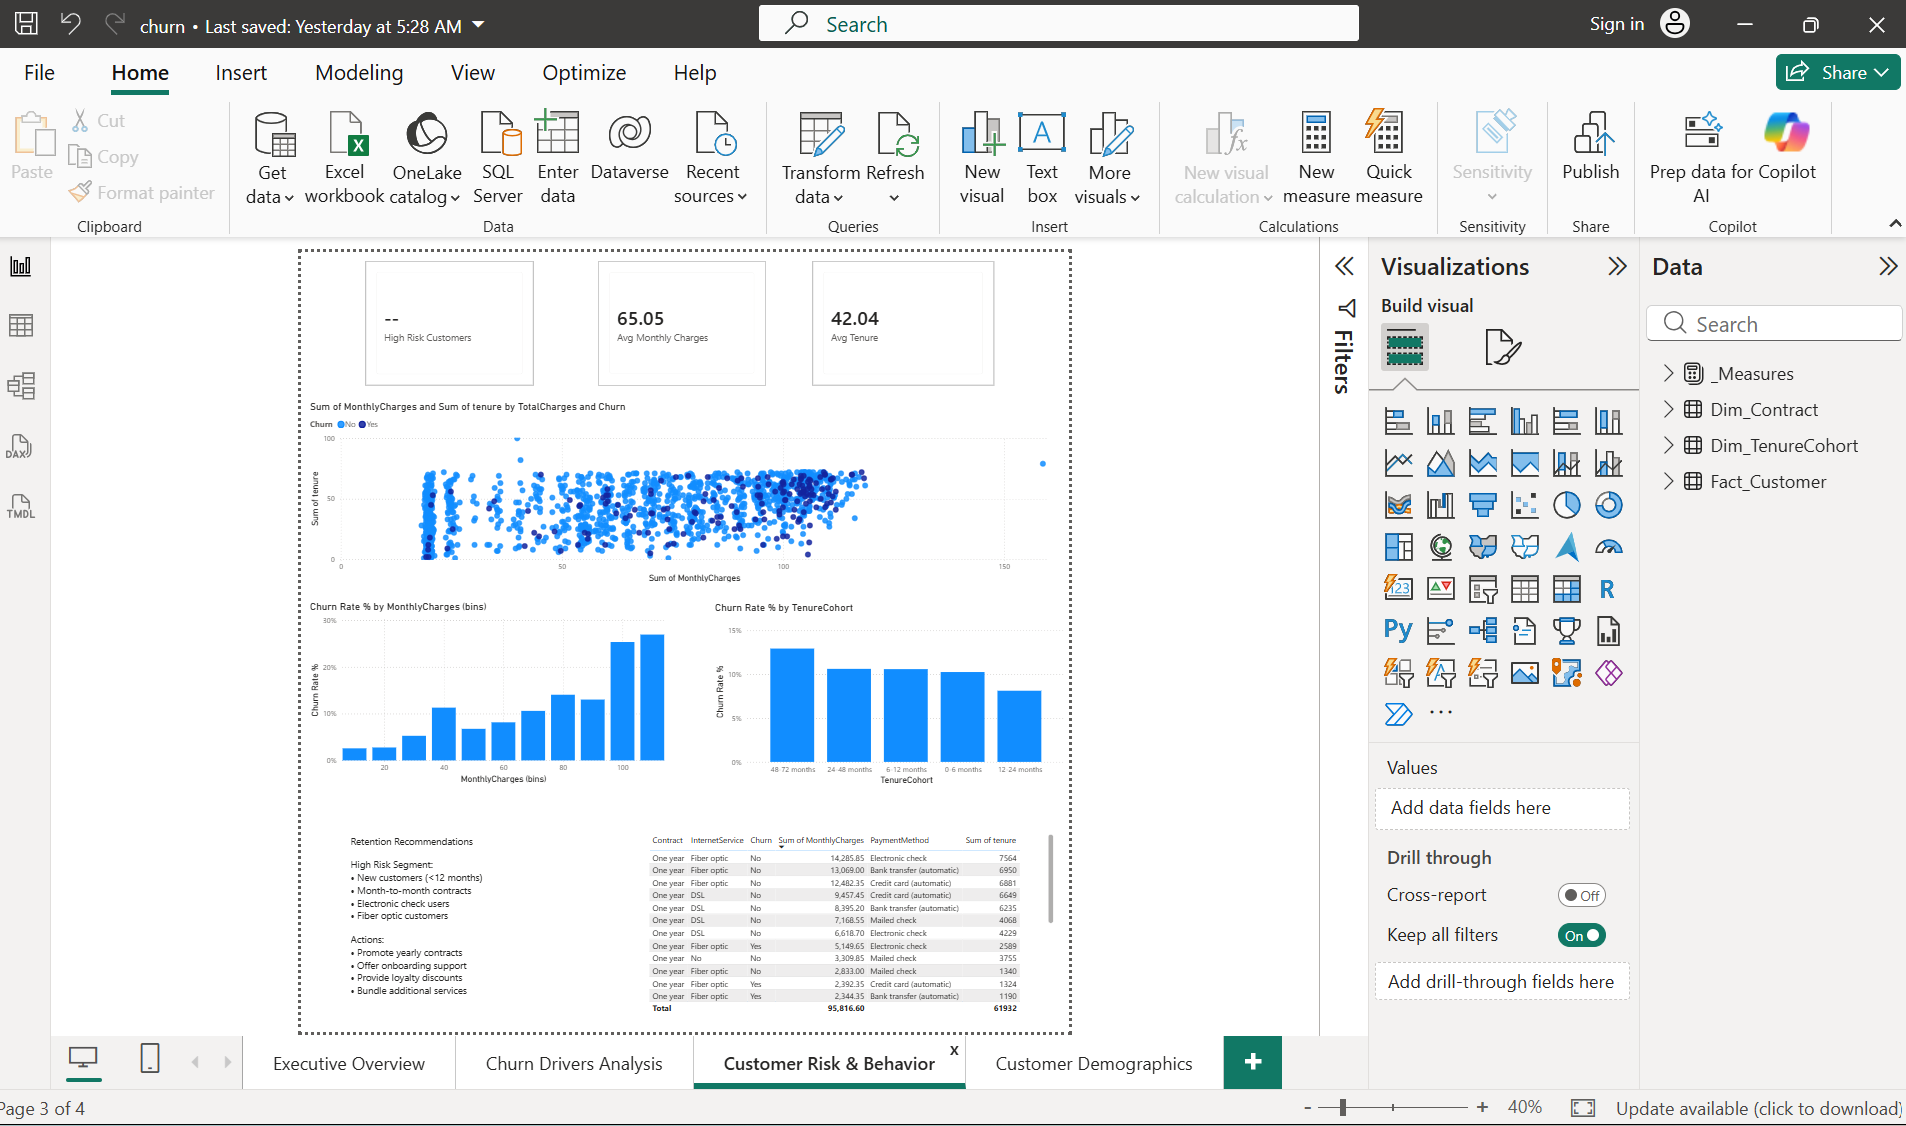

The page's visual inventory and layout, read from the dashboard file:
{"tool":"powerbi","page":{"name":"Customer Risk & Behavior","canvas":[1280,1300],"ordinal":2},"visuals":[{"type":"cardVisual","fields":{"Data":["_Measures.High Risk Customers"]},"box":[107.5,15,280,207.5],"z":0},{"type":"cardVisual","fields":{"Data":["_Measures.Avg Monthly Charges"]},"box":[495,15,280,207.5],"z":1000},{"type":"cardVisual","fields":{"Data":["_Measures.Avg Tenure"]},"box":[852.5,15,302.5,207.5],"z":2000},{"type":"scatterChart","fields":{"X":["Sum(Fact_Customer.MonthlyCharges)"],"Y":["Sum(Fact_Customer.tenure)"],"Category":["Fact_Customer.TotalCharges"],"Series":["Fact_Customer.Churn"]},"box":[10,247.5,1250,307.5],"z":3000},{"type":"columnChart","fields":{"Category":["Fact_Customer.MonthlyCharges (bins)"],"Y":["_Measures.Churn Rate %"]},"box":[10,580,600,310],"z":4000},{"type":"columnChart","fields":{"Category":["Fact_Customer.TenureCohort"],"Y":["_Measures.Churn Rate %"]},"box":[686,582,594,310],"z":5000},{"type":"tableEx","fields":{"Values":["Fact_Customer.Contract","Fact_Customer.InternetService","Fact_Customer.Churn","Sum(Fact_Customer.MonthlyCharges)","Fact_Customer.PaymentMethod","Sum(Fact_Customer.tenure)"]},"box":[576,964,684,310],"z":6000},{"type":"textbox","box":[78,964,396,310],"z":7000}]}

Visuals, with their boxes on the page's 1280x1300 design canvas (x1, y1, x2, y2). These are canvas units, not pixel positions in the 1906x1126 screenshot, which may show the page scaled, cropped or inside an application window:
cardVisual - _Measures.High Risk Customers: detection(108, 15, 388, 222)
cardVisual - _Measures.Avg Monthly Charges: detection(495, 15, 775, 222)
cardVisual - _Measures.Avg Tenure: detection(852, 15, 1155, 222)
scatterChart - Sum(Fact_Customer.MonthlyCharges) x Sum(Fact_Customer.tenure): detection(10, 248, 1260, 555)
columnChart - Fact_Customer.MonthlyCharges (bins) x _Measures.Churn Rate %: detection(10, 580, 610, 890)
columnChart - Fact_Customer.TenureCohort x _Measures.Churn Rate %: detection(686, 582, 1280, 892)
tableEx - Fact_Customer.Contract x Fact_Customer.InternetService: detection(576, 964, 1260, 1274)
textbox: detection(78, 964, 474, 1274)
